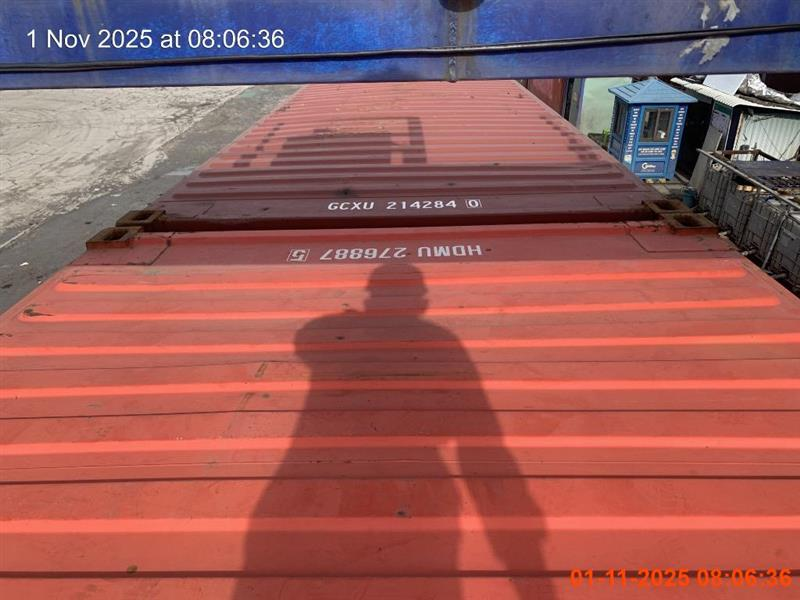broken: (230, 261, 560, 600)
